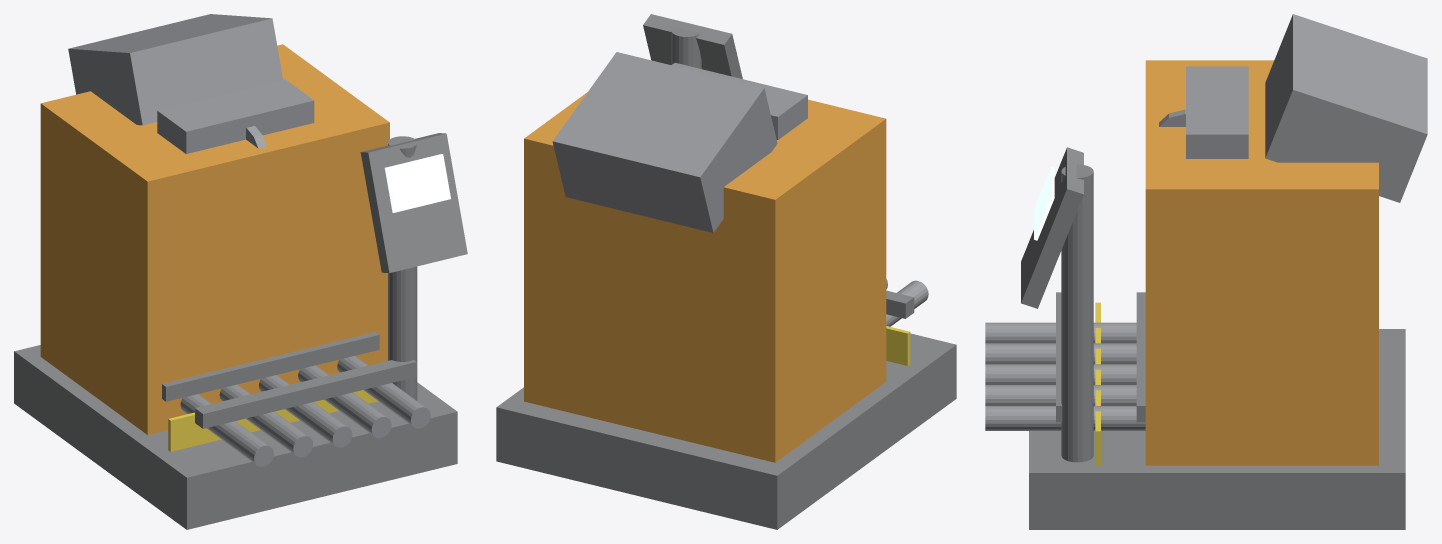
File: machine_unboxer.glb
3 views of the same model, side by side, from view 1: azimuth 30°, elevation 25°; view 2: azimuth 150°, elevation 25°; view 3: azimuth 270°, elevation 25° (orthographic). The views are drawn at different scales.
Parts seen in each view (by area): view 1: MU_body, MU_plinth, MU_hopper, MU_panel, MU_blade_box, MU_frame_a, MU_frame_b, MU_pylon, MU_screen, MU_warn, MU_roller_0, MU_roller_3 (+3 smaller); view 2: MU_body, MU_plinth, MU_hopper, MU_panel, MU_blade_box, MU_pylon, MU_warn, MU_frame_a, MU_roller_0; view 3: MU_body, MU_plinth, MU_hopper, MU_pylon, MU_blade_box, MU_panel, MU_roller_4, MU_roller_1, MU_roller_0, MU_roller_2, MU_roller_3, MU_frame_b (+3 smaller).
Part boxes in pixels (x1=…): MU_body: x1=40, y1=44, x2=389, y2=434; MU_plinth: x1=14, y1=345, x2=457, y2=529; MU_hopper: x1=68, y1=14, x2=283, y2=125; MU_panel: x1=360, y1=133, x2=467, y2=273; MU_blade_box: x1=157, y1=79, x2=314, y2=153; MU_frame_a: x1=195, y1=360, x2=416, y2=428; MU_frame_b: x1=162, y1=332, x2=379, y2=401; MU_pylon: x1=388, y1=136, x2=417, y2=400; MU_screen: x1=384, y1=154, x2=450, y2=212; MU_warn: x1=168, y1=390, x2=377, y2=451; MU_roller_0: x1=180, y1=394, x2=273, y2=466; MU_roller_3: x1=298, y1=365, x2=391, y2=438; MU_body: x1=524, y1=92, x2=886, y2=462; MU_plinth: x1=496, y1=333, x2=956, y2=529; MU_hopper: x1=552, y1=52, x2=777, y2=232; MU_panel: x1=643, y1=14, x2=742, y2=78; MU_blade_box: x1=671, y1=62, x2=807, y2=139; MU_pylon: x1=671, y1=27, x2=701, y2=68; MU_warn: x1=886, y1=326, x2=910, y2=365; MU_frame_a: x1=886, y1=290, x2=914, y2=318; MU_roller_0: x1=886, y1=280, x2=928, y2=326; MU_body: x1=1145, y1=60, x2=1378, y2=465; MU_plinth: x1=1029, y1=329, x2=1405, y2=529; MU_hopper: x1=1265, y1=14, x2=1427, y2=202; MU_pylon: x1=1061, y1=164, x2=1093, y2=462; MU_blade_box: x1=1186, y1=66, x2=1248, y2=158; MU_panel: x1=1021, y1=147, x2=1083, y2=308; MU_roller_4: x1=985, y1=406, x2=1145, y2=430; MU_roller_1: x1=985, y1=343, x2=1136, y2=364; MU_roller_0: x1=985, y1=322, x2=1136, y2=343; MU_roller_2: x1=985, y1=364, x2=1136, y2=384; MU_roller_3: x1=985, y1=385, x2=1136, y2=405; MU_frame_b: x1=1136, y1=292, x2=1145, y2=422.
Size of the model in its own units: 1.95 by 2.5 by 2.47.
